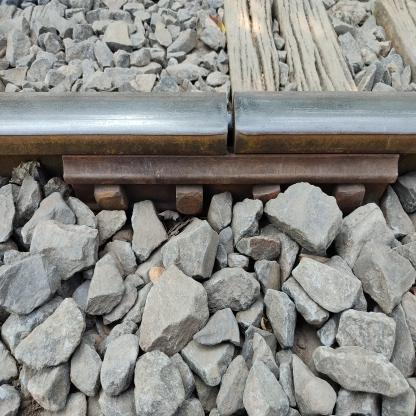Non Defective 2: (191, 80, 285, 178)
Non Defective 3: (47, 146, 412, 235)
